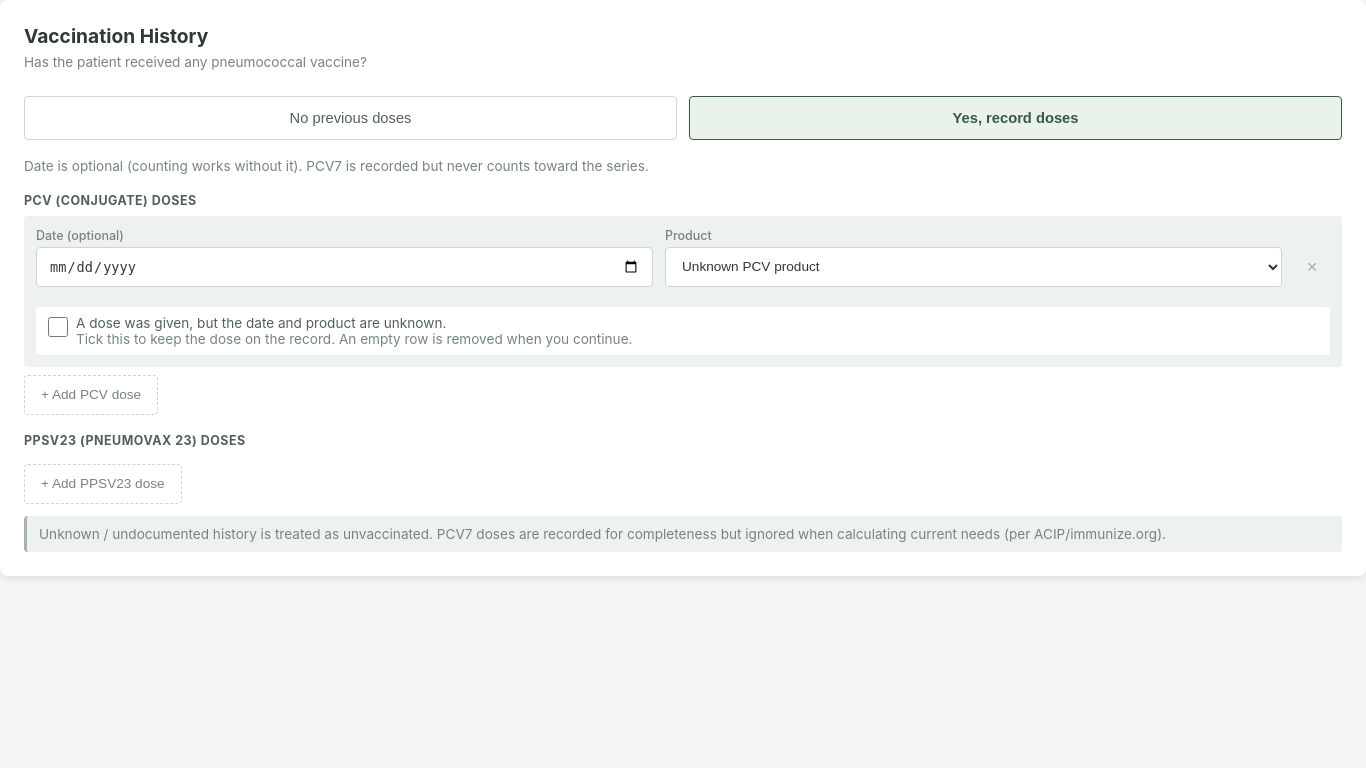
Test: S9 — the dose editor has one home › the details-unknown tick, on both surfaces › history withdraws it once a PCV product is chosen
Expected: the number of checkboxes labelled "A dose was given, but the date and product are unknown" is 1, [48,317,68,337]
Select "PCV13 (Prevnar 13)" in the dropdown labelled "Product" at (974,267), box [665,247,1282,287]
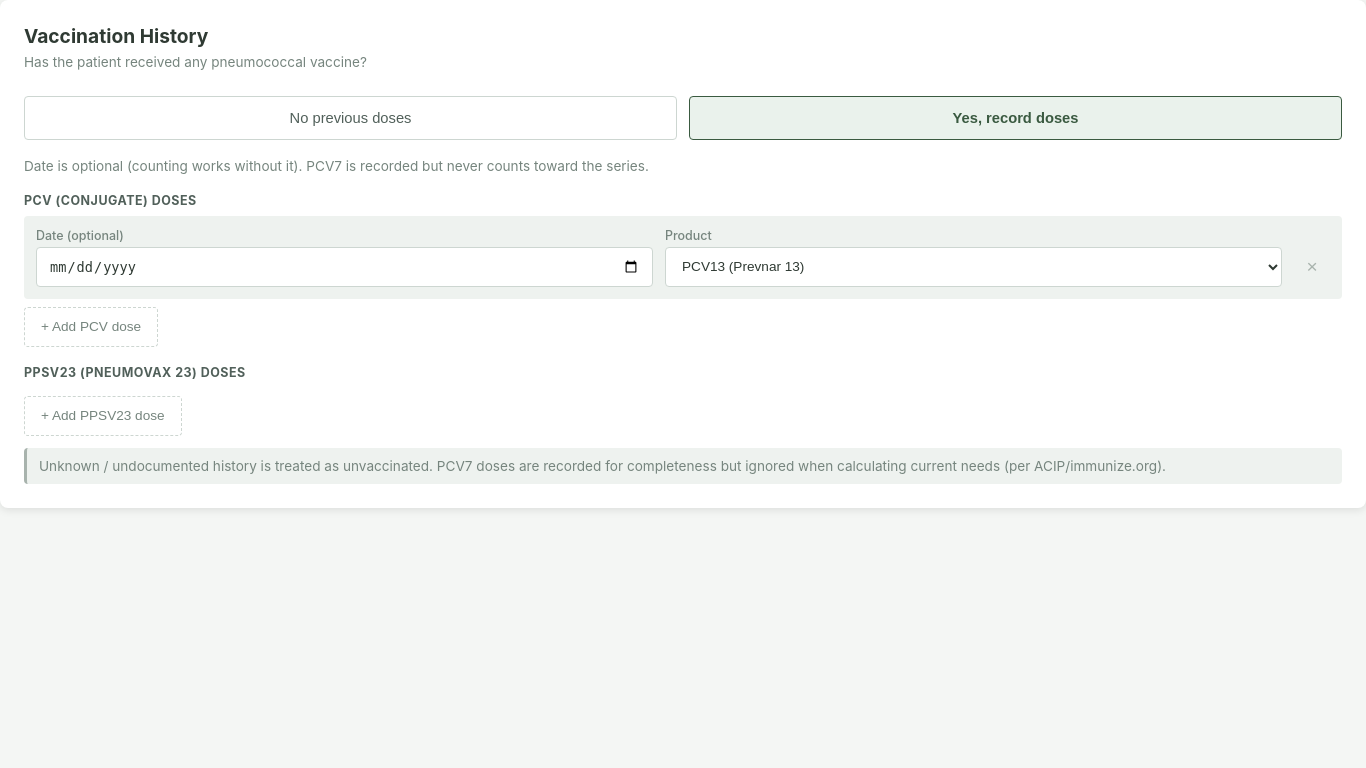
Expected: no checkboxes labelled "A dose was given, but the date and product are unknown" are shown
